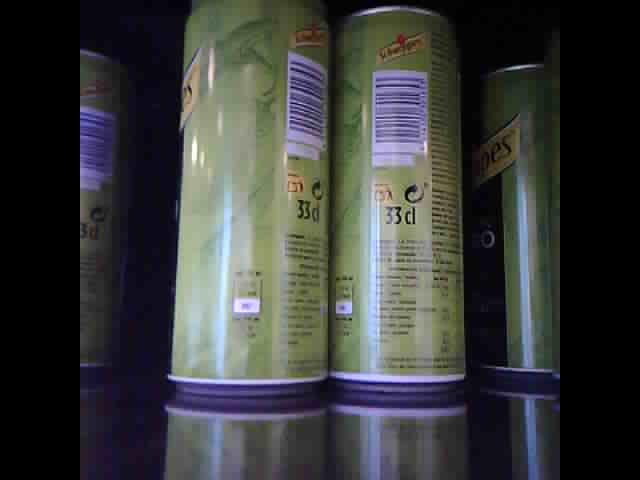schweppes: (160, 2, 335, 396), (328, 2, 470, 394), (477, 59, 561, 381), (78, 41, 117, 372)
